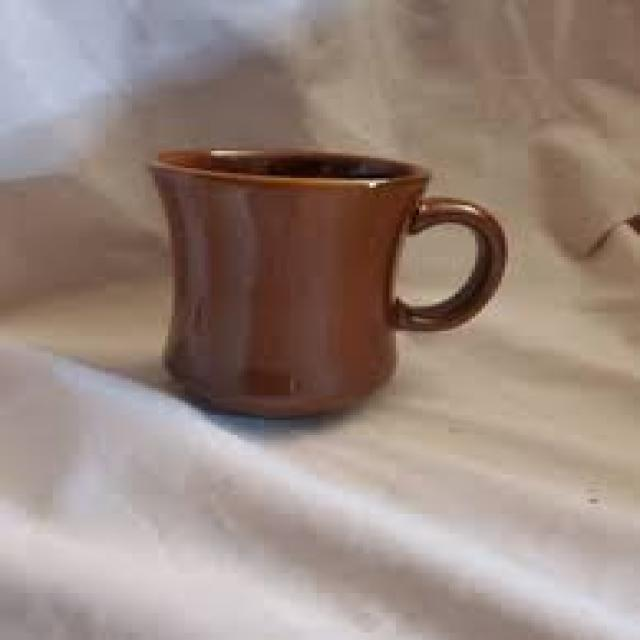taza: (150, 148, 506, 418)
